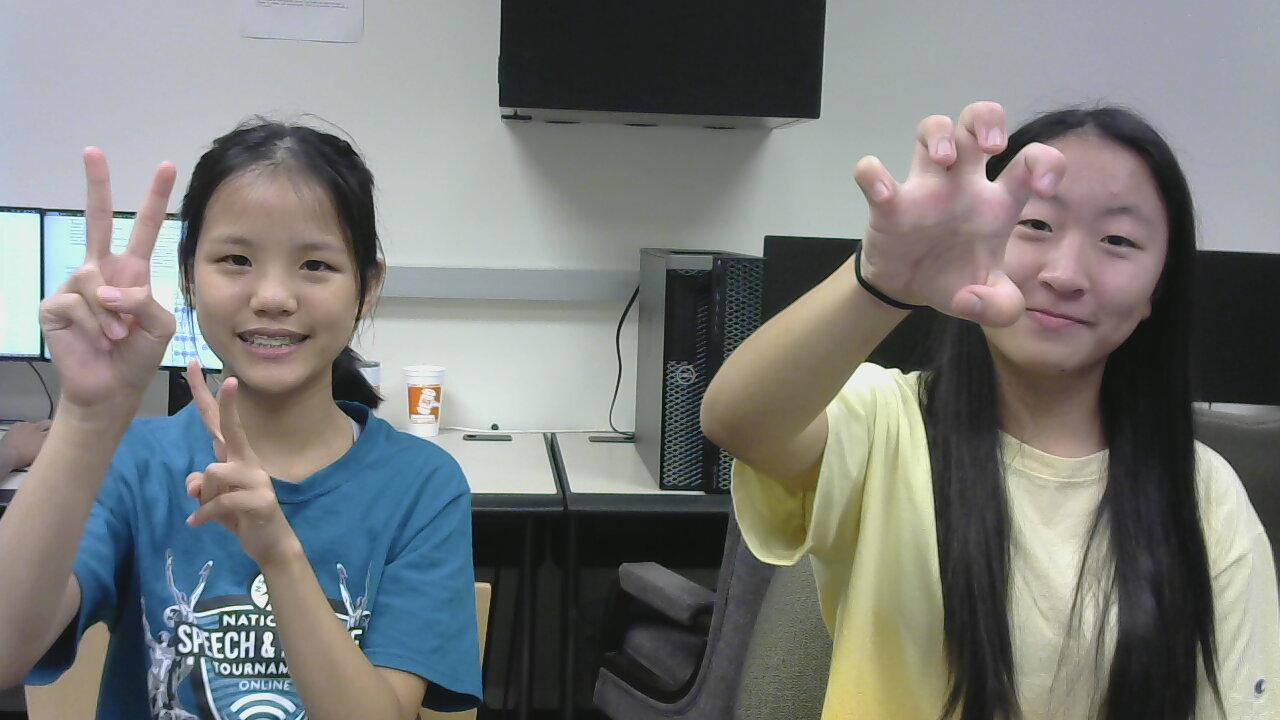hands: (826, 97, 1092, 348)
peace: (41, 142, 181, 398), (181, 369, 287, 536)
